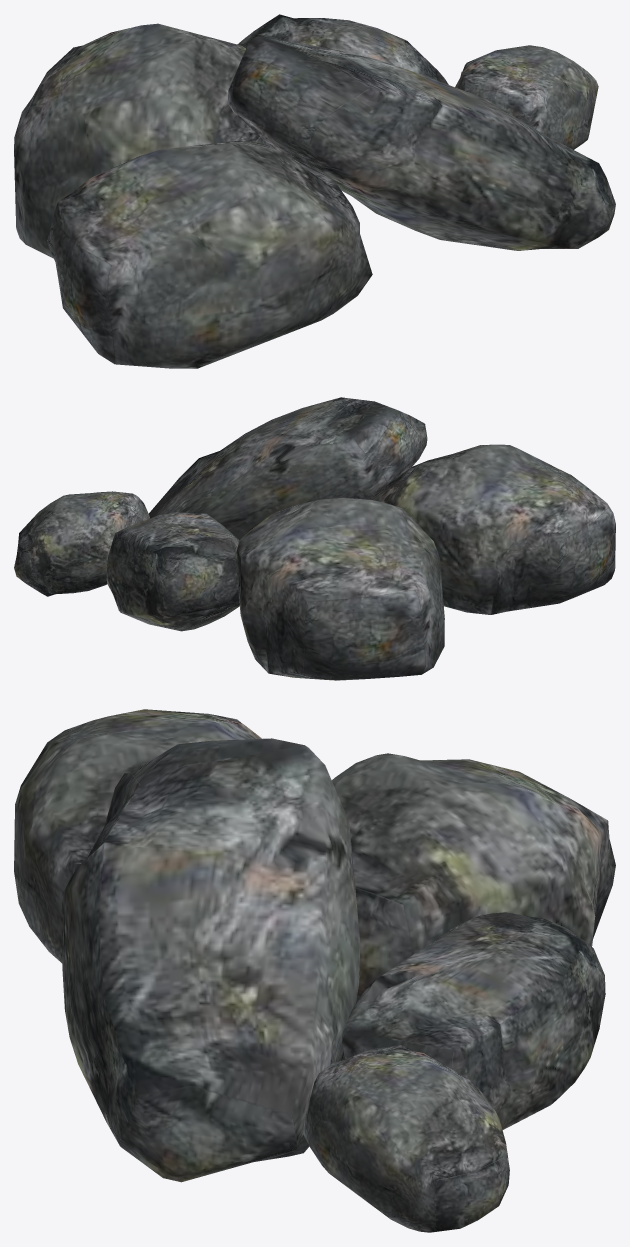
File: rockcluster02.glb
3 renders of one model, top to bottom at view 1: azimuth 30°, elevation 25°; view 2: azimuth 150°, elevation 25°; view 3: azimuth 270°, elevation 25°, orthographic. The views are drawn at different scales.
Parts seen in each view (by area): view 1: 0_Rocks02; view 2: 0_Rocks02; view 3: 0_Rocks02.
Part boxes in pixels (box(x1,y1,x2,y2)): 0_Rocks02: box(14, 14, 615, 368); 0_Rocks02: box(14, 397, 615, 680); 0_Rocks02: box(14, 709, 615, 1232).
Bounding box in the file's own units: 8.05 × 3.06 × 5.48.
1 material, 1 textured.
